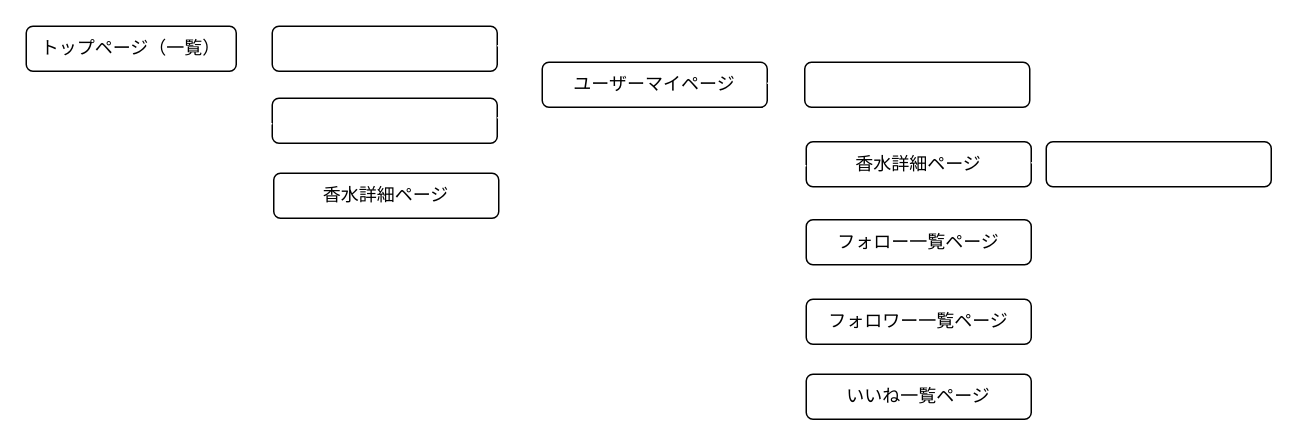
This 1298x446 diagram has some shape labels left out. The shapes that lost their labels are listed below. From the top down, each one's centre as x and y in pixels, then its label:
[384,48]: ユーザーログインページ
[916,84]: 香水登録ページ
[384,120]: ユーザー新規登録ページ
[1158,163]: 香水編集ページ
